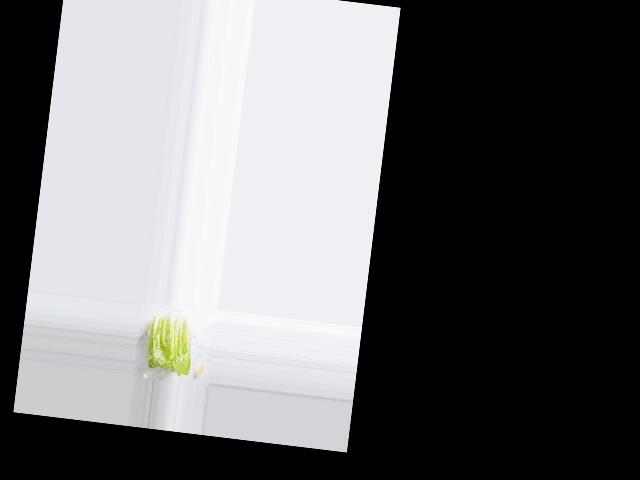lettuce: (141, 311, 198, 378)
